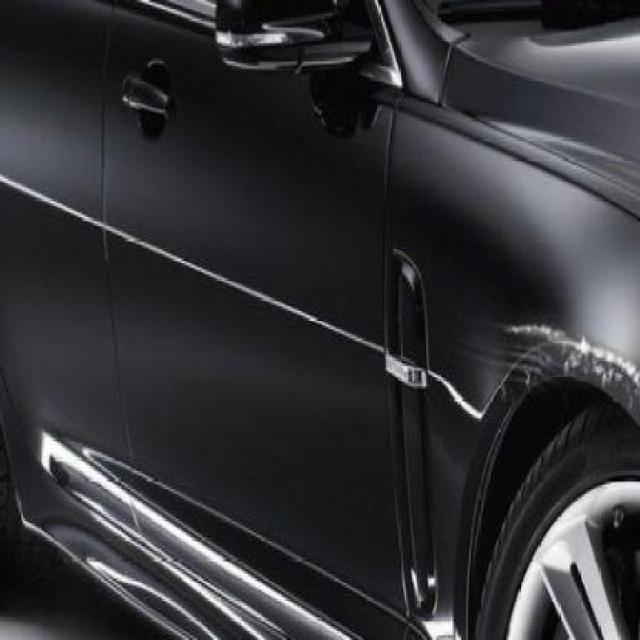scratch: (433, 304, 640, 406)
